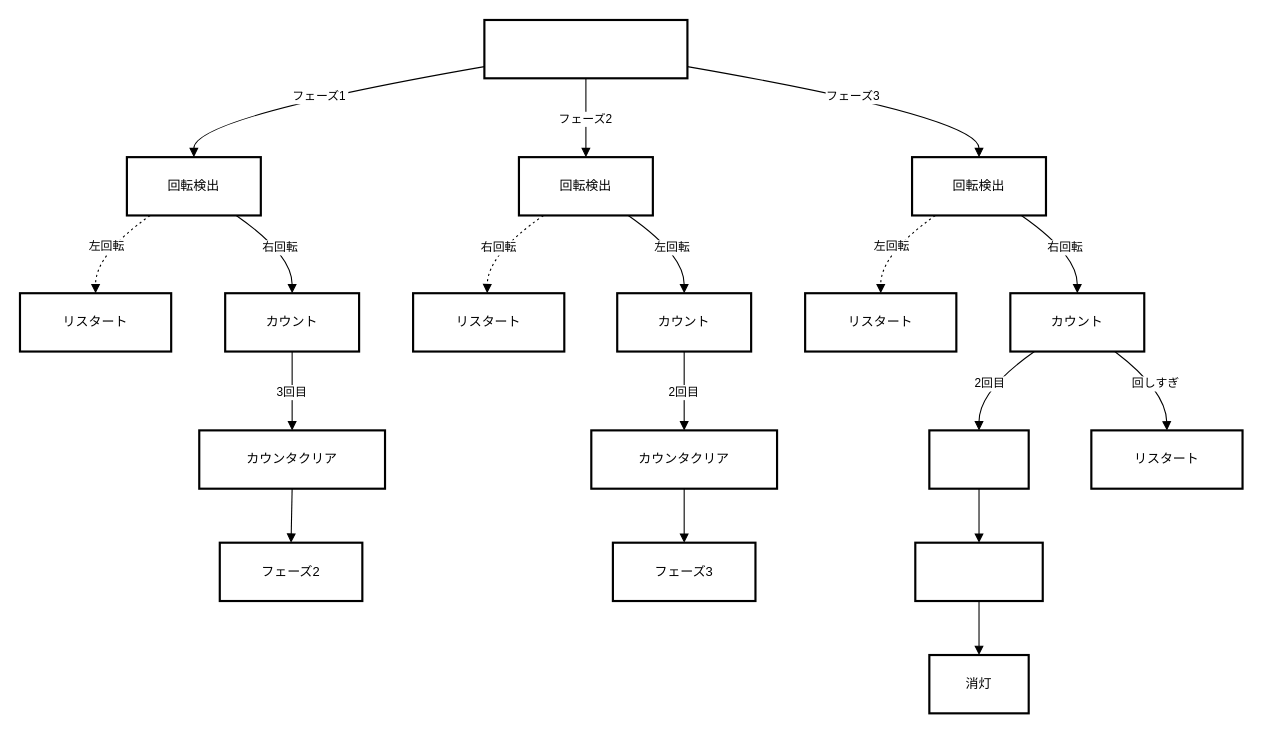
Some shapes in this 1261 by 732 pixel diagram are drawn without their labels. Each missing label, with the centre of its shape:
"1秒まつ" belongs at (x=978, y=571).
"チャタリング除去" belongs at (x=585, y=48).
"点灯" belongs at (x=978, y=459).
